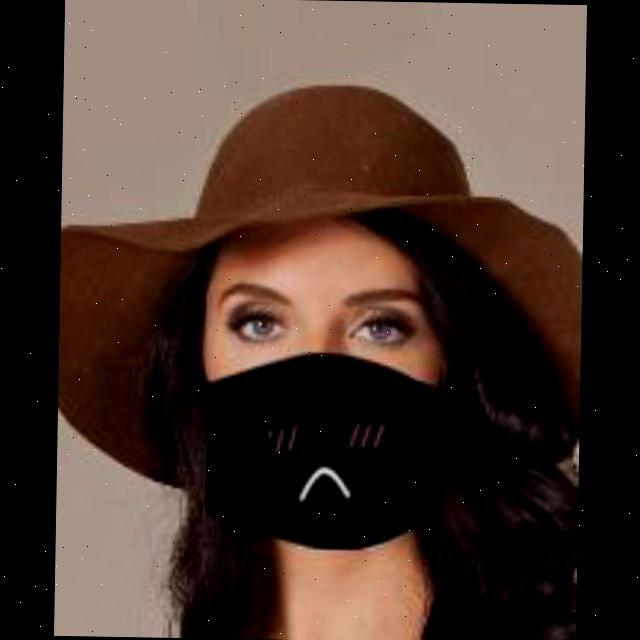suspicion: (136, 184, 520, 548)
